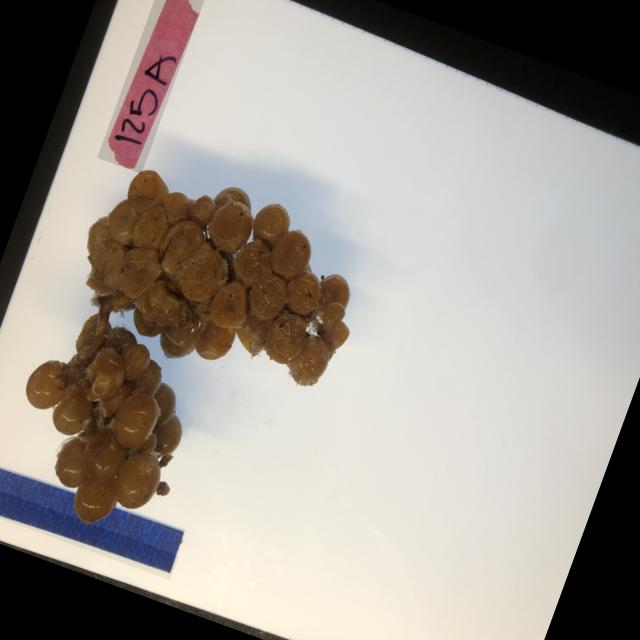grape_cluster: (0, 139, 385, 584)
index: (97, 0, 208, 173)
measure_label: (0, 448, 189, 579)
